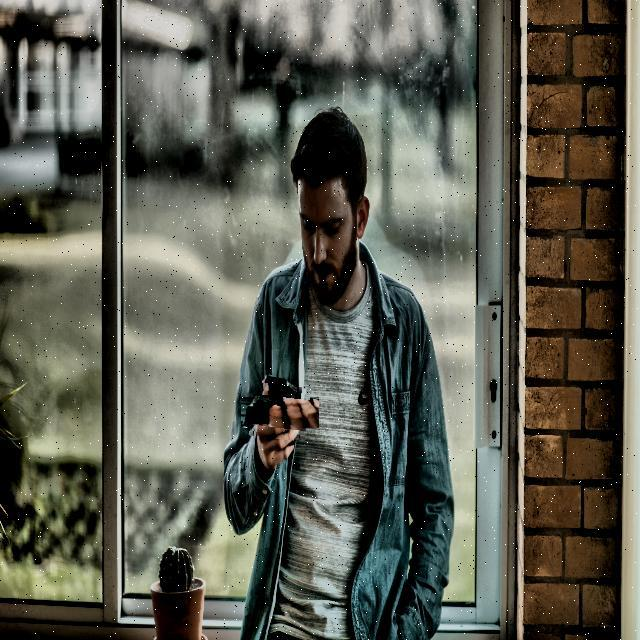Phone: (250, 384, 310, 441)
